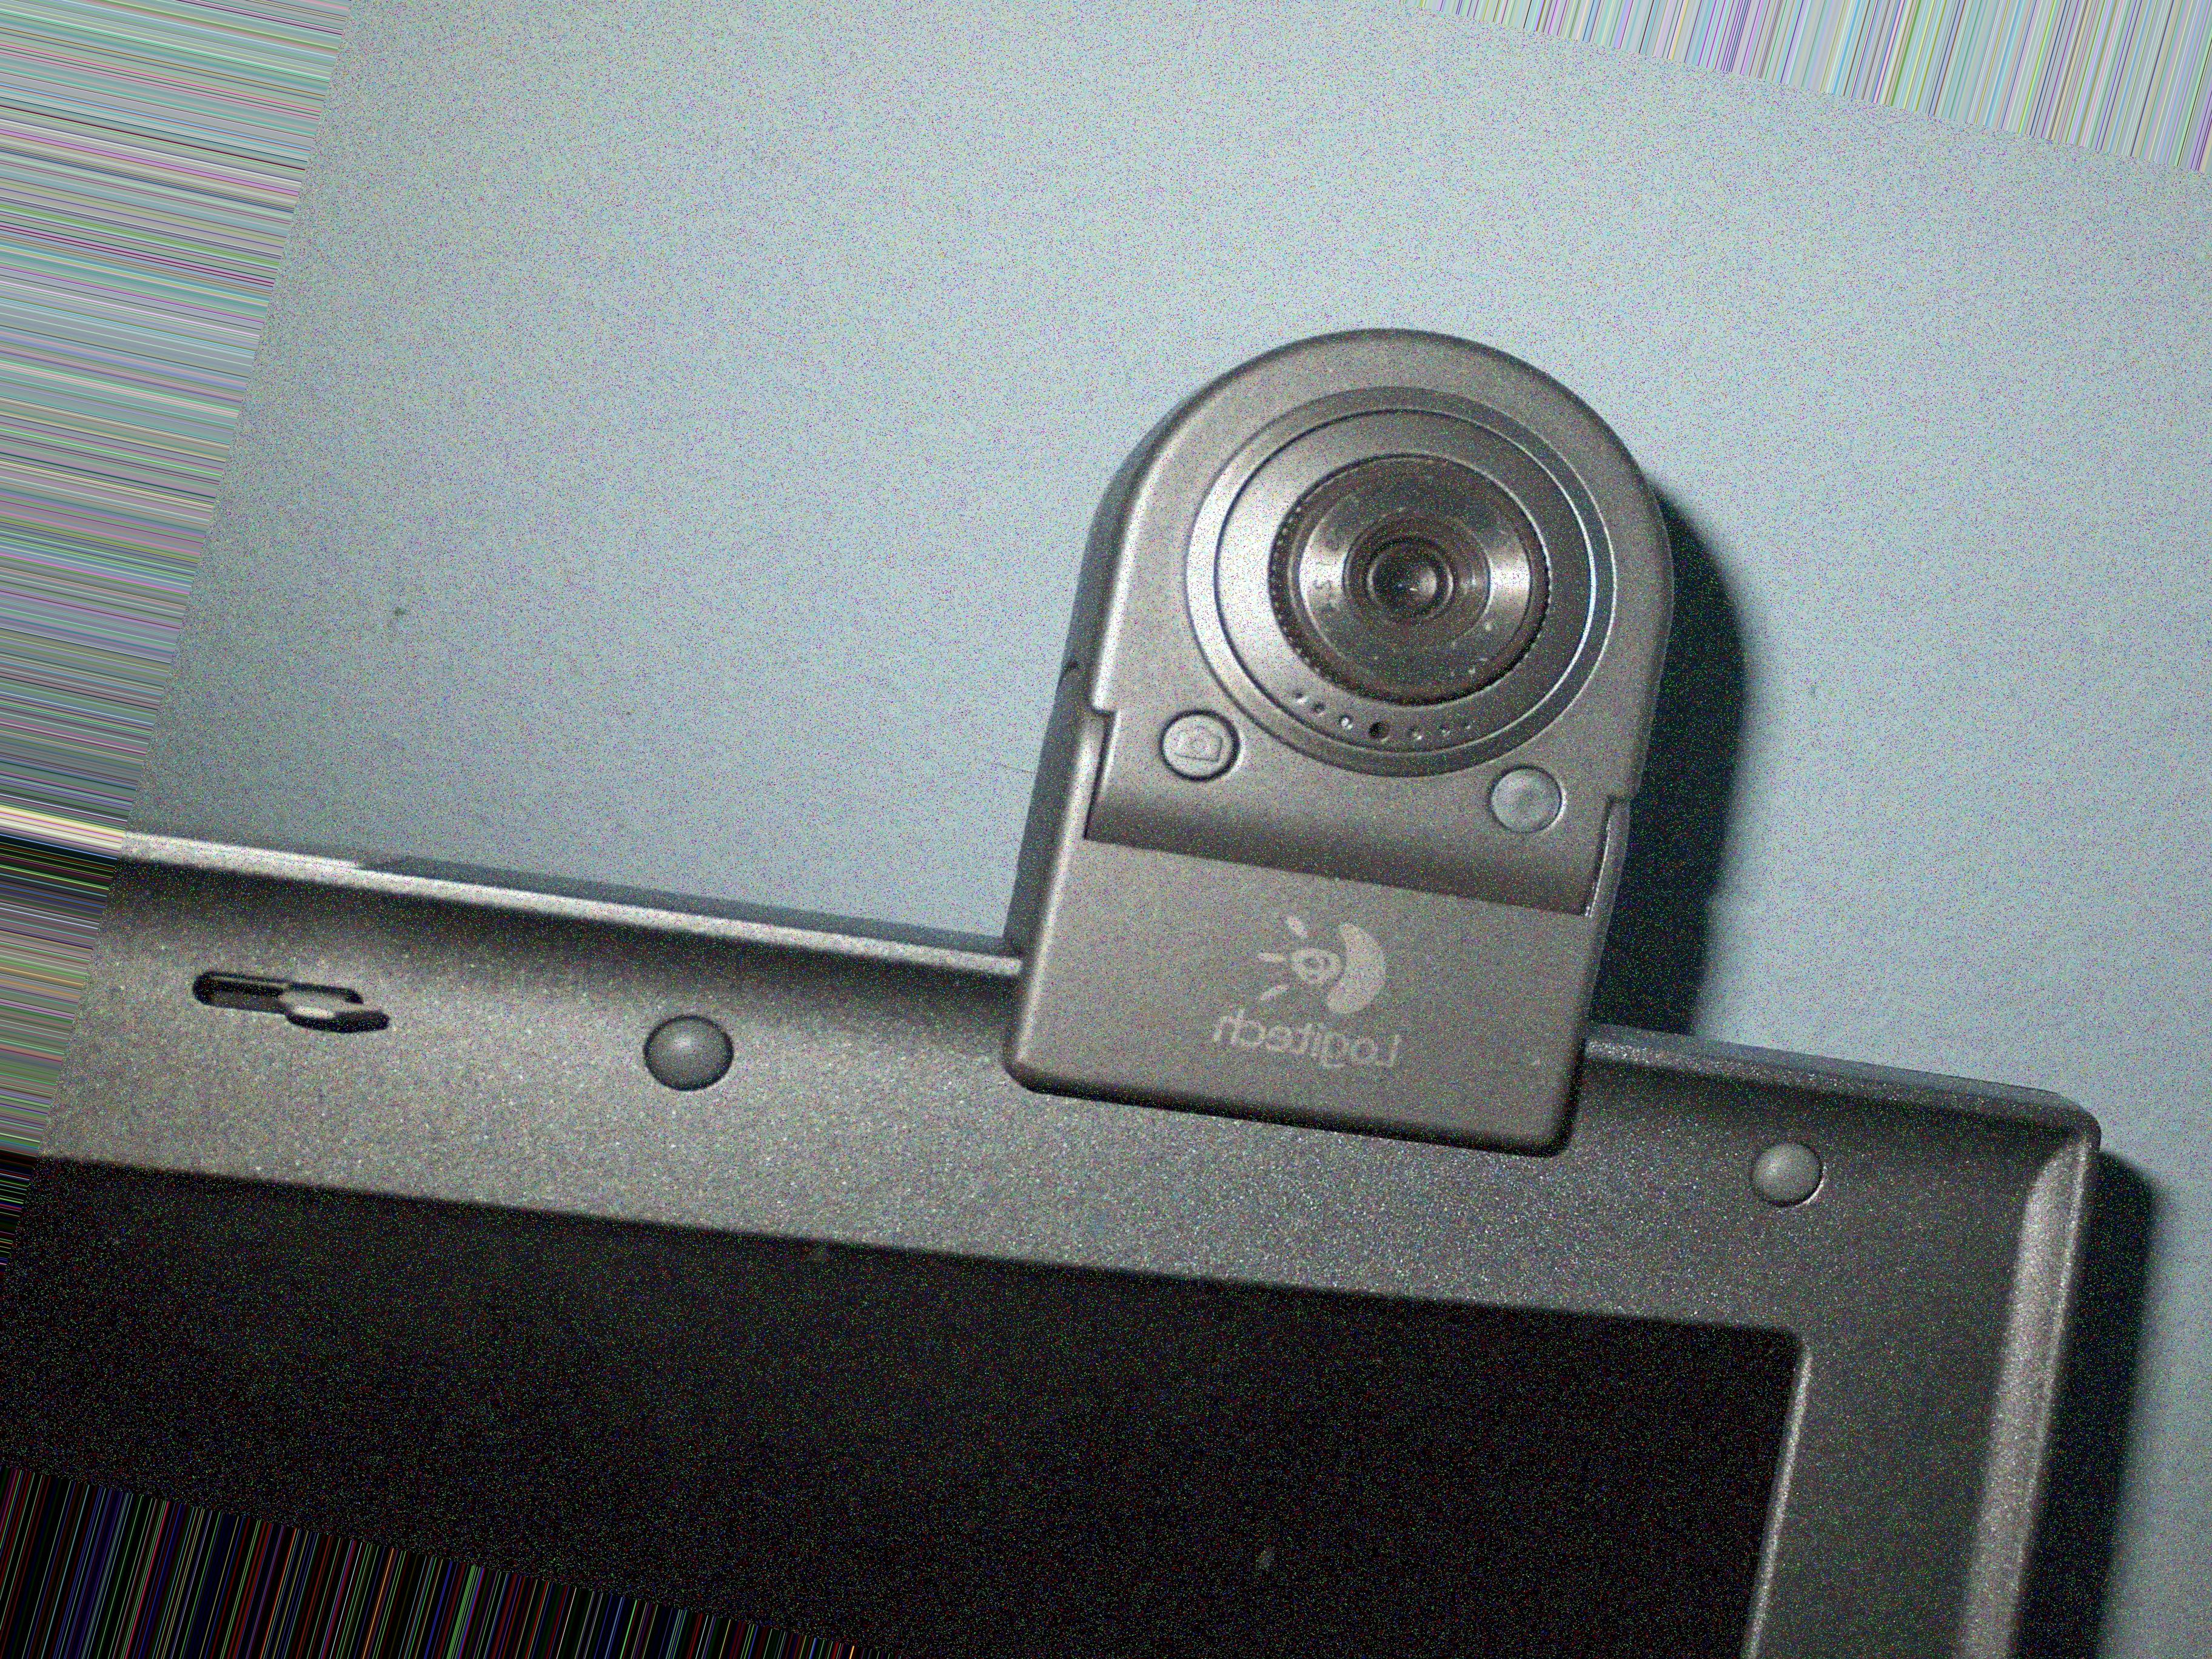webcam: (982, 300, 1738, 892)
